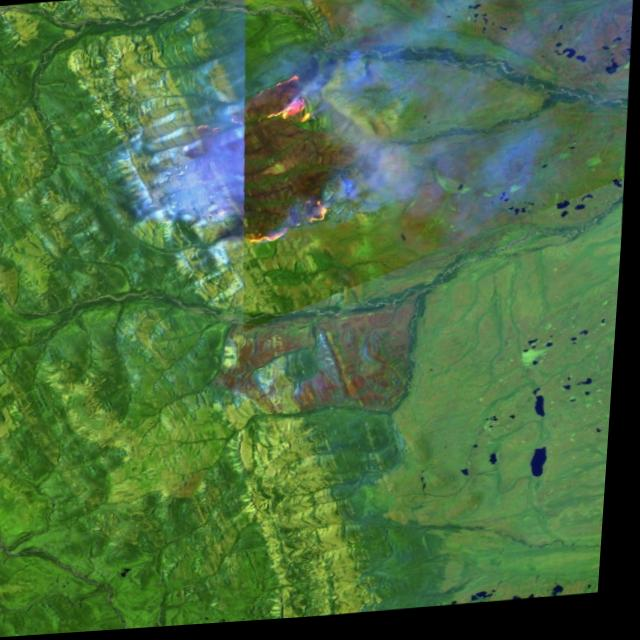fire: (241, 196, 336, 255), (249, 67, 322, 137)
